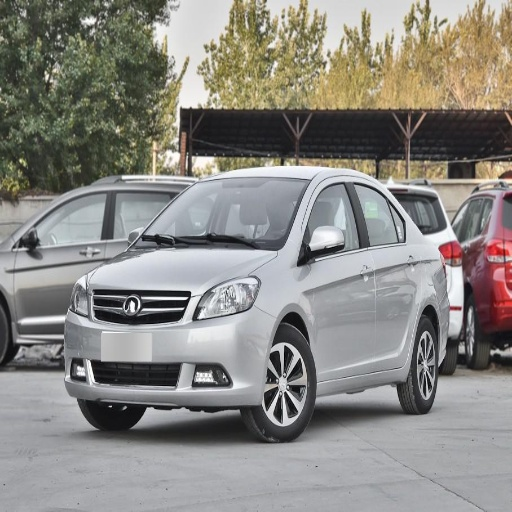back_left_door: (351, 178, 417, 368)
front_bumper: (63, 288, 278, 407)
front_glass: (126, 179, 309, 250)
front_left_door: (299, 178, 374, 379), (15, 195, 111, 319)
